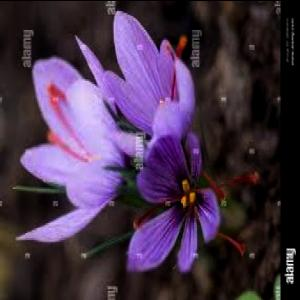Saffron: (13, 51, 134, 241), (106, 4, 200, 164), (130, 125, 220, 278)
